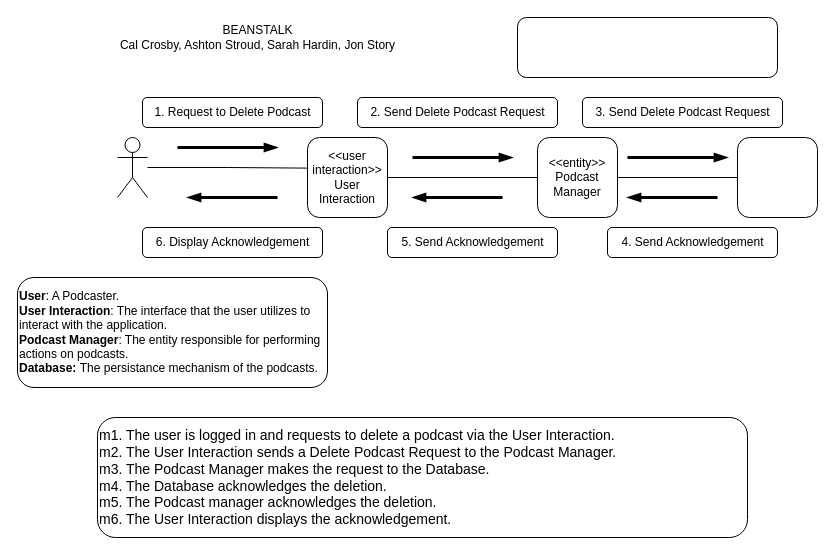
Some shapes in this 835 by 555 pixel diagram are drawn without their labels. Here are the shapes that lost their labels. From the top down, the centre of each, then its label:
At (647,47): "Interaction Diagram".
At (132,167): "User".
At (777,177): "<<external system>> Database".
